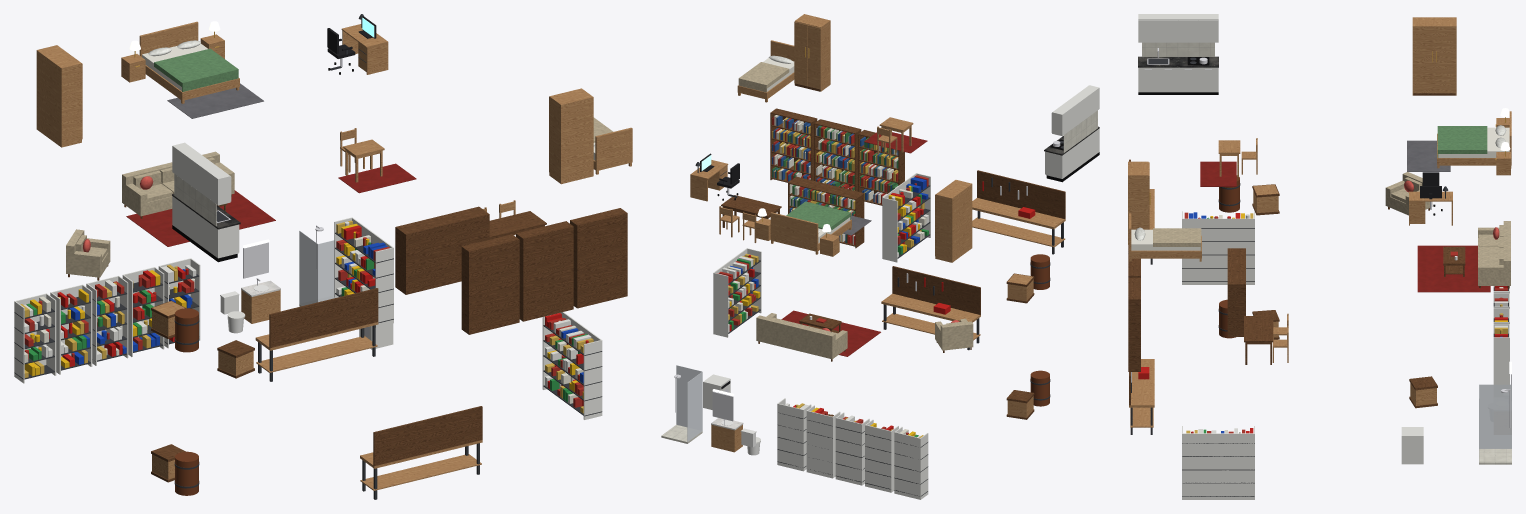
Rendered from i_steampunk_works.gltf.
The picture shows the model from 3 angles, left to right: view 1: azimuth 30°, elevation 25°; view 2: azimuth 150°, elevation 25°; view 3: azimuth 270°, elevation 25°; orthographic projection. The views are drawn at different scales.
Parts seen in each view (by area): view 1: I_steampunk_works; view 2: I_steampunk_works; view 3: I_steampunk_works.
Part boxes in pixels (x1=…): I_steampunk_works: x1=14, y1=14, x2=632, y2=499; I_steampunk_works: x1=661, y1=14, x2=1099, y2=499; I_steampunk_works: x1=1128, y1=14, x2=1511, y2=499.
Bounding box in the file's own units: 11.35 × 9.4 × 10.52.
Materials: 34 (12 with a texture image).
